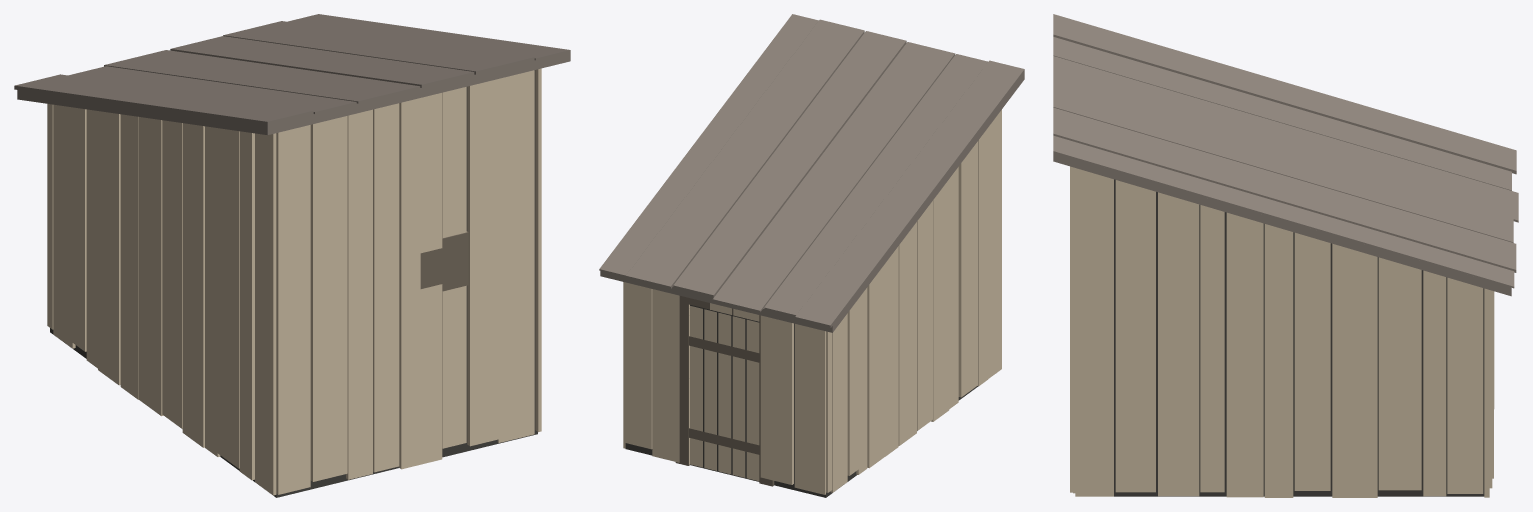
File: recon_1835_west_012__inferred_1835.glb
3 views of the same model, side by side, from view 1: azimuth 30°, elevation 25°; view 2: azimuth 150°, elevation 25°; view 3: azimuth 270°, elevation 25° (orthographic). The views are drawn at different scales.
Visible parts, largest first — view 1: recon_1835_west_012__inferred_1835; view 2: recon_1835_west_012__inferred_1835; view 3: recon_1835_west_012__inferred_1835.
Boxes of the visible parts, bbox=[...] form: recon_1835_west_012__inferred_1835: bbox=[14, 14, 570, 497]; recon_1835_west_012__inferred_1835: bbox=[599, 14, 1024, 497]; recon_1835_west_012__inferred_1835: bbox=[1053, 14, 1518, 497].
Bounding box in the file's own units: 2.82 × 3.47 × 4.11.
